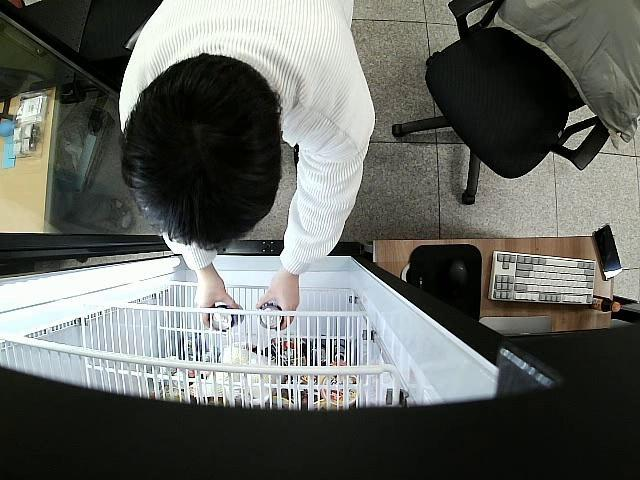14_welchsGrape: (208, 305, 242, 330), (258, 304, 284, 331)
